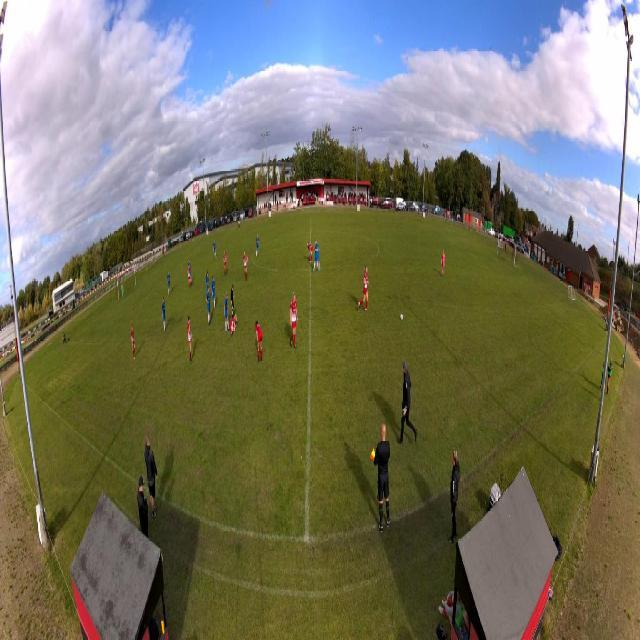ball: (400, 312, 403, 321)
player: (358, 265, 369, 313), (289, 293, 298, 351), (254, 319, 263, 364), (187, 316, 193, 365), (224, 288, 230, 332), (313, 235, 319, 273), (211, 276, 217, 311), (206, 287, 211, 326), (131, 325, 136, 361), (230, 283, 235, 318), (307, 239, 314, 263), (242, 252, 248, 279), (229, 313, 236, 335), (441, 249, 446, 278), (162, 297, 166, 332), (205, 271, 209, 300), (223, 249, 227, 276), (167, 270, 171, 297), (187, 265, 191, 292), (188, 260, 192, 287), (255, 234, 259, 258), (119, 283, 124, 302), (213, 239, 217, 260)
